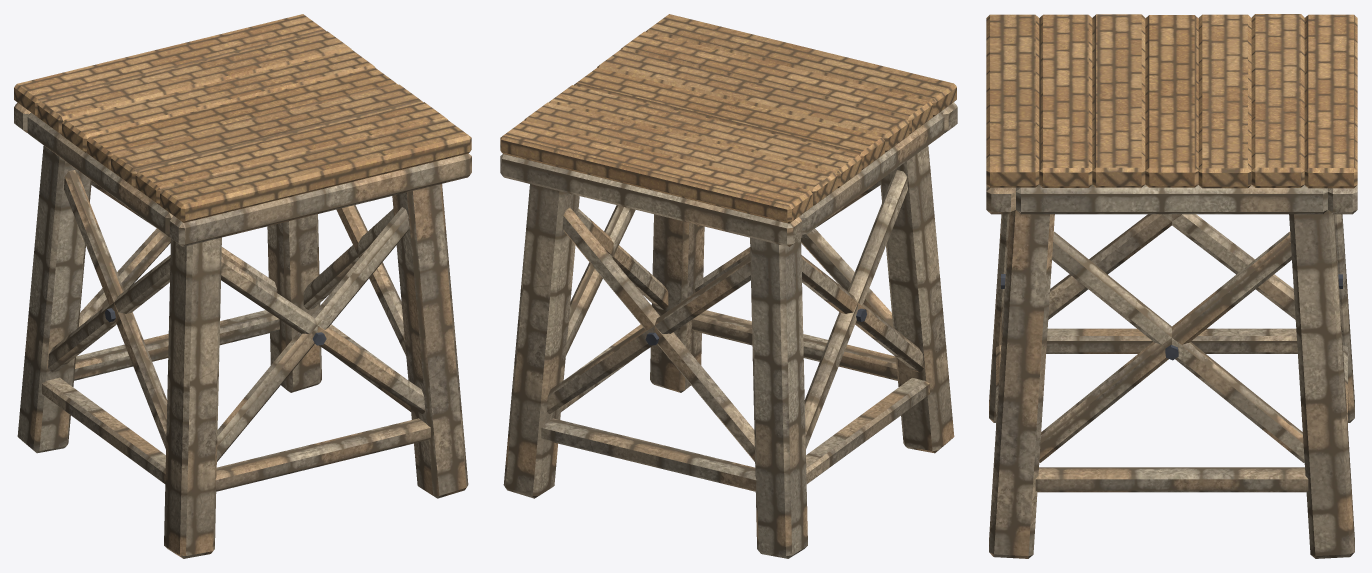
The model's file is kule_tabani.glb.
3 renders of one model, left to right at view 1: azimuth 30°, elevation 25°; view 2: azimuth 150°, elevation 25°; view 3: azimuth 270°, elevation 25°, orthographic. The views are drawn at different scales.
Visible parts, largest first — view 1: kule_tabani; view 2: kule_tabani; view 3: kule_tabani.
Boxes of the visible parts, left/top/right/bottom form: kule_tabani: left=14, top=14, right=471, bottom=558; kule_tabani: left=500, top=14, right=957, bottom=558; kule_tabani: left=986, top=14, right=1357, bottom=558.
Size of the model in its own units: 3 by 3.51 by 3.
Materials: 1 (1 with a texture image).
